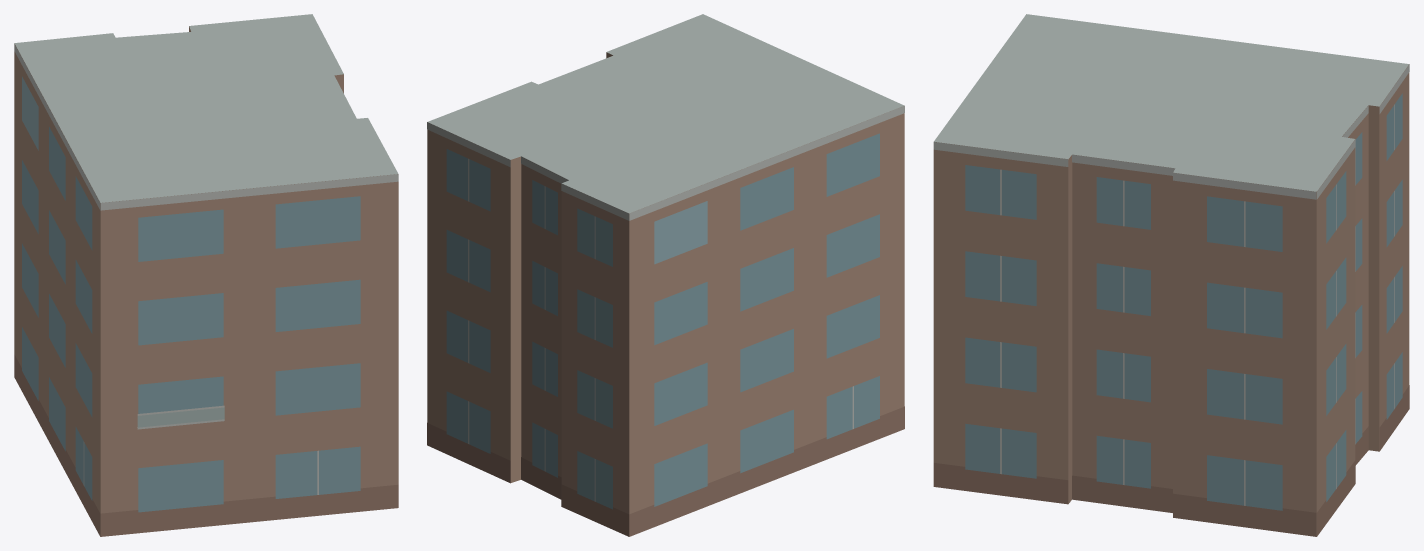
Rendered from survey-upis-32527685.glb.
3 renders of one model, left to right at view 1: azimuth 30°, elevation 25°; view 2: azimuth 150°, elevation 25°; view 3: azimuth 270°, elevation 25°, orthographic. The views are drawn at different scales.
Visible parts, largest first — view 1: survey-upis-32527685.tmp; view 2: survey-upis-32527685.tmp; view 3: survey-upis-32527685.tmp.
Boxes of the visible parts, x1=… form: survey-upis-32527685.tmp: x1=14, y1=14, x2=398, y2=536; survey-upis-32527685.tmp: x1=427, y1=14, x2=904, y2=536; survey-upis-32527685.tmp: x1=933, y1=14, x2=1409, y2=536.
Size of the model in its own units: 11.72 by 10.6 by 13.25.
